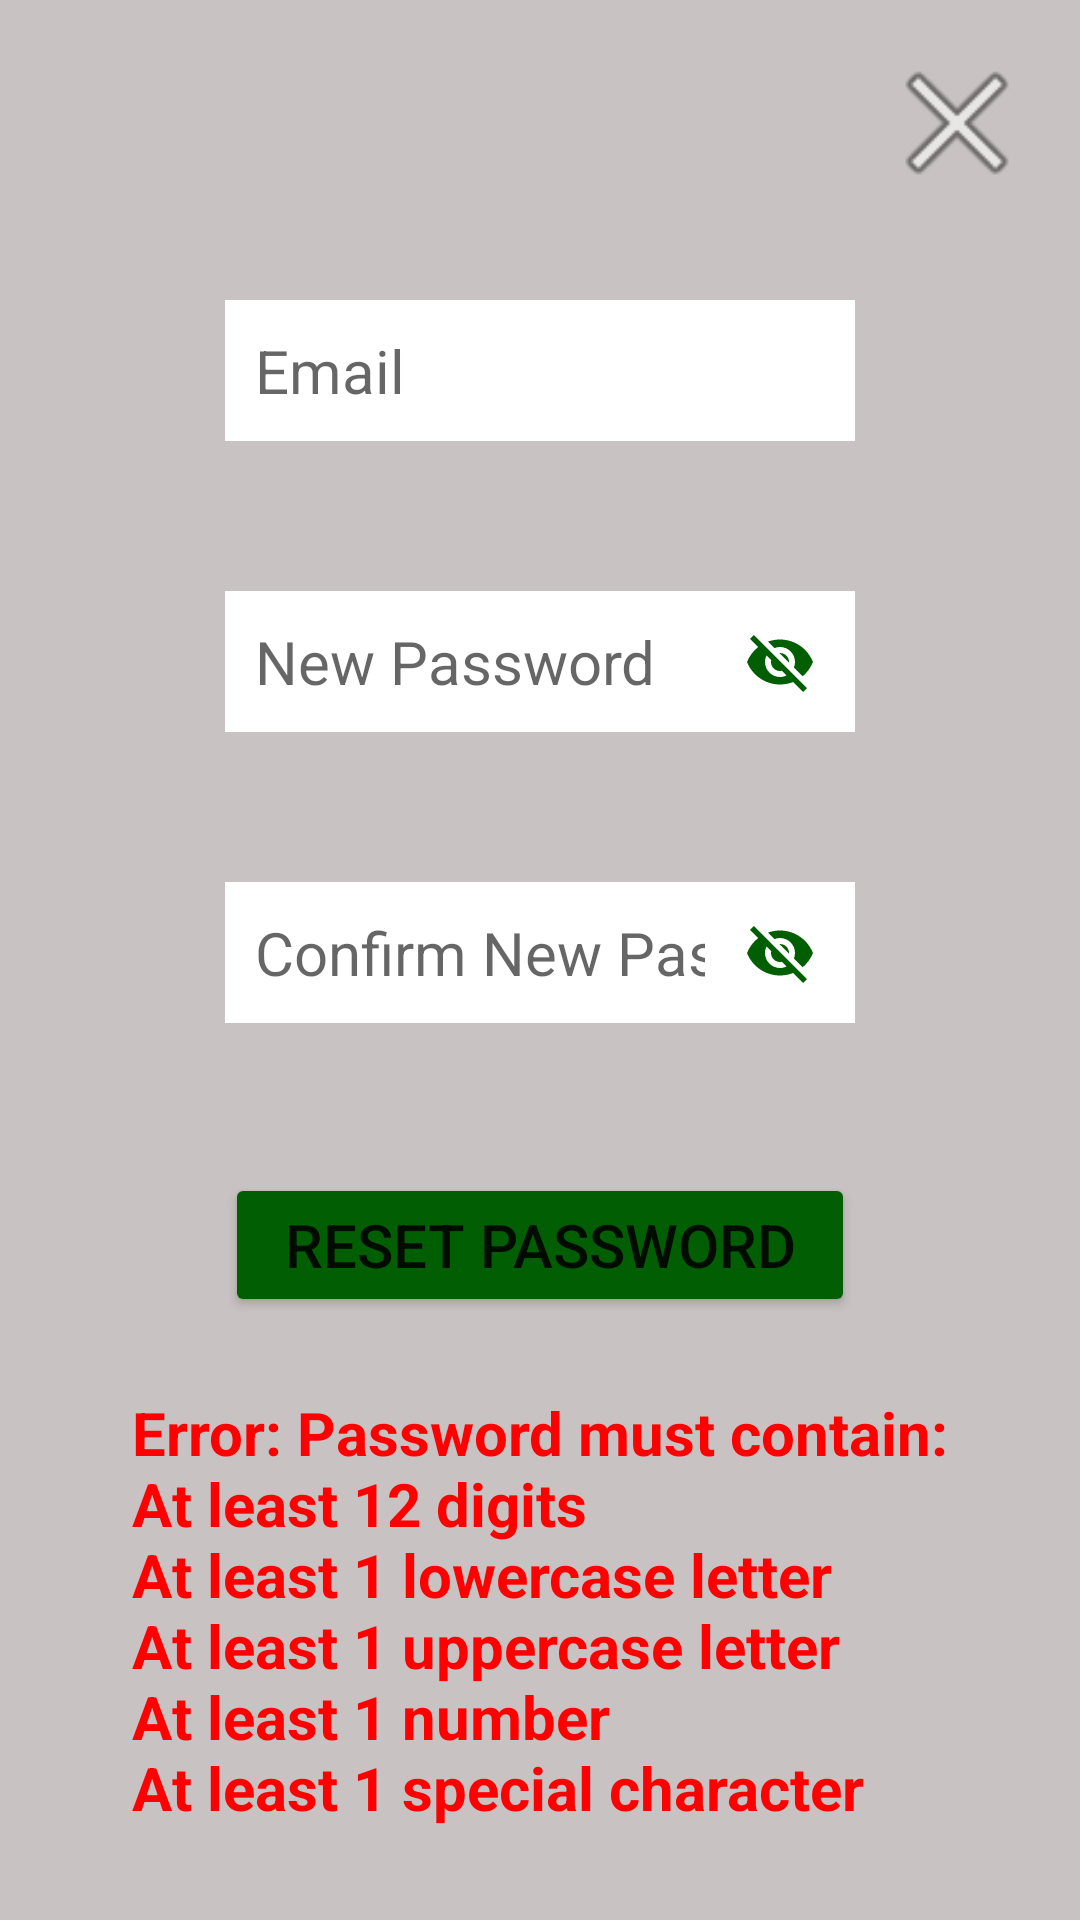

Icon click points for this 1080px×1920px phone screenshot, format [x,y]:
Confirm Password Visible or not: [780,954]
Password Visible or not: [780,663]
